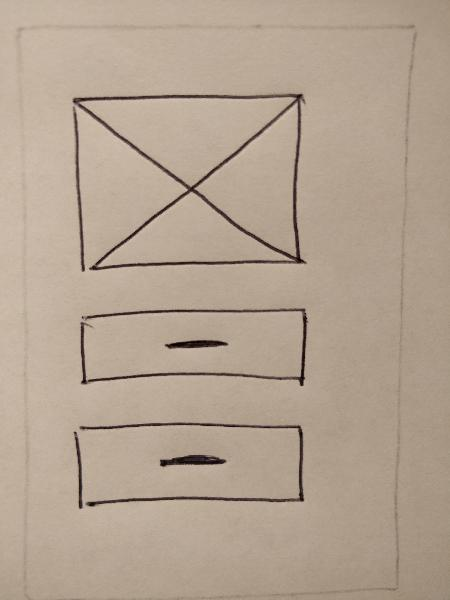button: (65, 415, 312, 517), (70, 304, 309, 390)
image: (67, 84, 313, 279)
